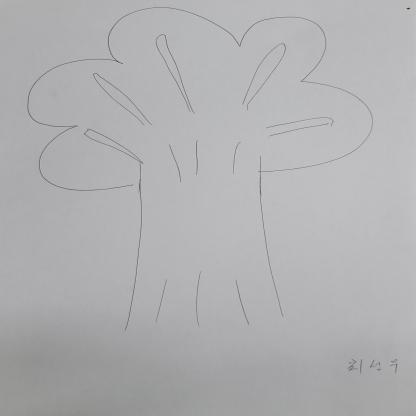crown_cloud: (23, 3, 382, 192)
trunk_straight: (126, 191, 278, 270)
